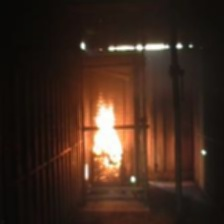fire: (95, 90, 128, 178)
